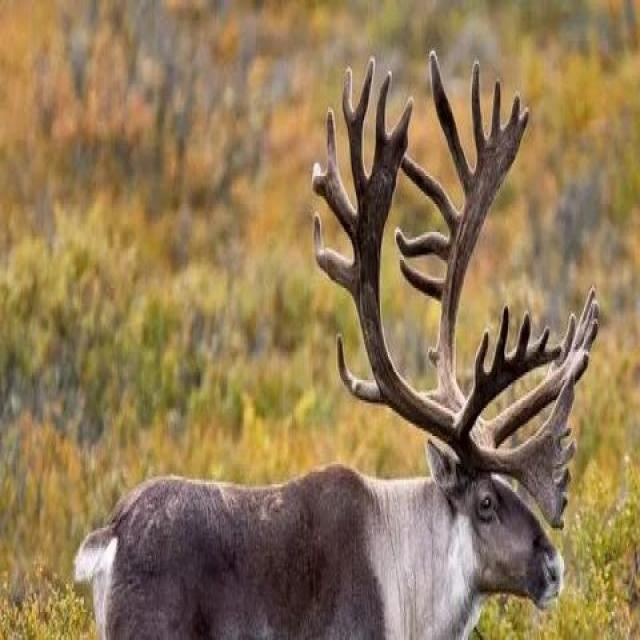deer: (89, 44, 591, 640)
